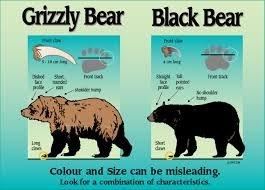bear: (21, 96, 132, 158), (147, 101, 245, 157)
